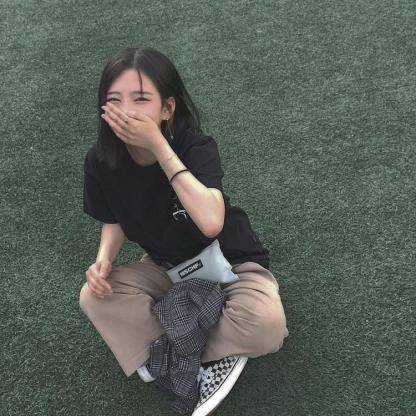person: (97, 51, 195, 150)
